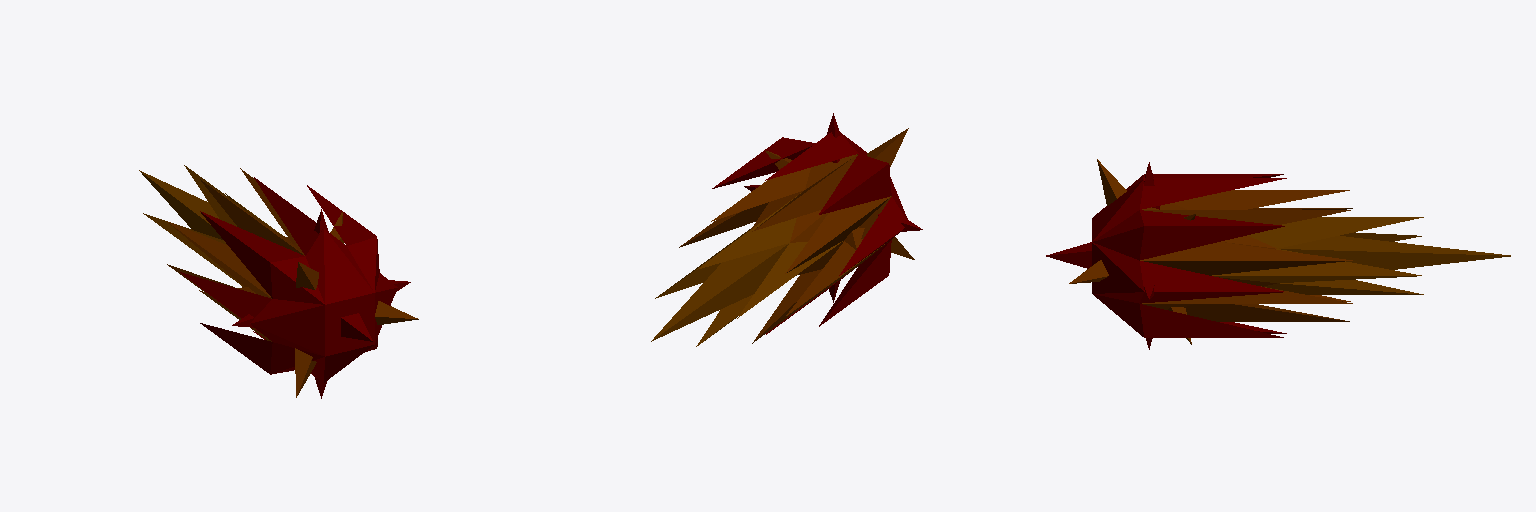
Rendered from magic.obj.
The picture shows the model from 3 angles: view 1: azimuth 30°, elevation 25°; view 2: azimuth 150°, elevation 25°; view 3: azimuth 270°, elevation 25°; orthographic projection.
Bounding box in the file's own units: 44 × 44 × 99.